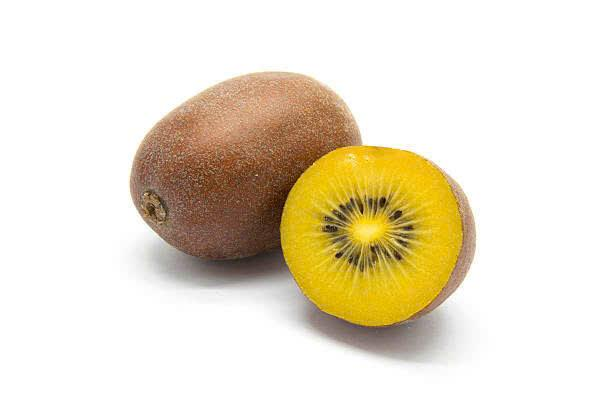kiwi: (126, 66, 336, 255), (271, 140, 467, 320)
